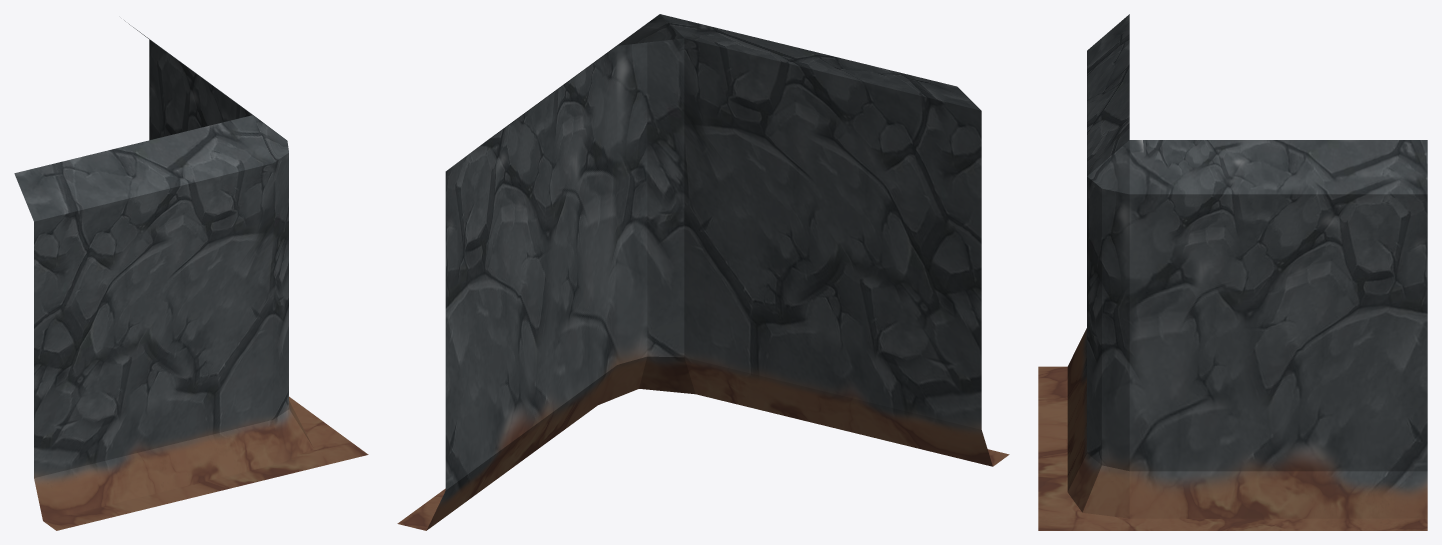
File: OutCornerWallTile.fbx
3 views of the same model, side by side, from view 1: azimuth 30°, elevation 25°; view 2: azimuth 150°, elevation 25°; view 3: azimuth 270°, elevation 25° (orthographic). The views are drawn at different scales.
Parts seen in each view (by area): view 1: CornerOutWall; view 2: CornerOutWall; view 3: CornerOutWall.
Boxes of the visible parts, bbox=[...] form: CornerOutWall: bbox=[14, 20, 368, 530]; CornerOutWall: bbox=[397, 14, 1009, 530]; CornerOutWall: bbox=[1038, 14, 1427, 530].
Size of the model in its own units: 100 by 100 by 100.
